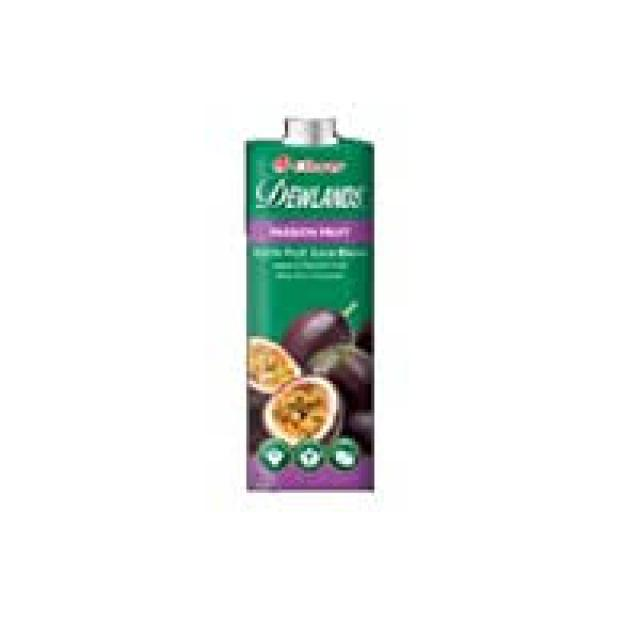non_white_jug: (225, 78, 398, 494)
